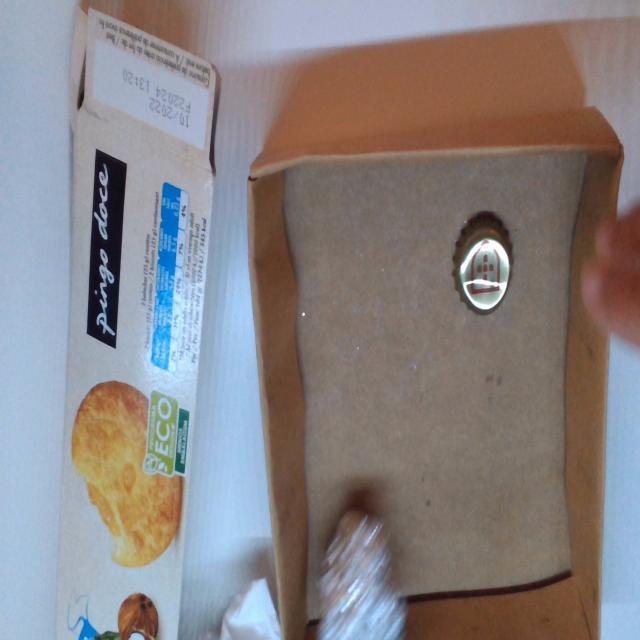Cardboard: (247, 105, 625, 640), (54, 0, 222, 640)
